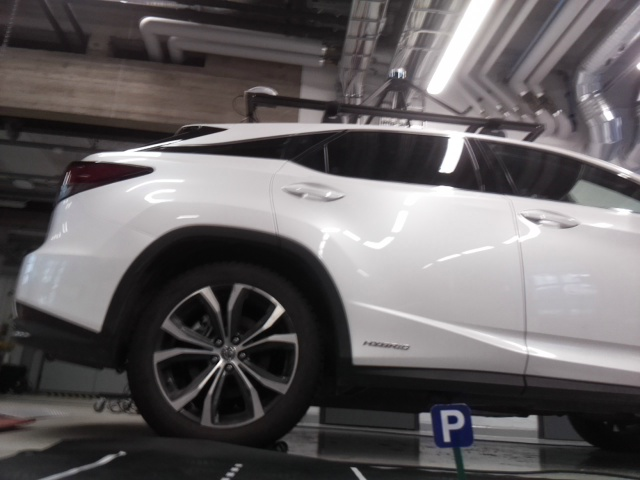Parking: (428, 404, 472, 446)
